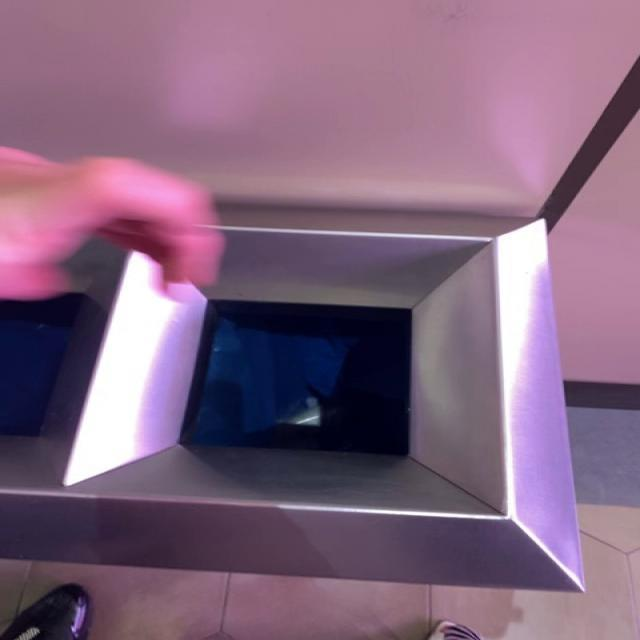Bin: (1, 207, 581, 592)
Metal: (277, 397, 321, 428)
